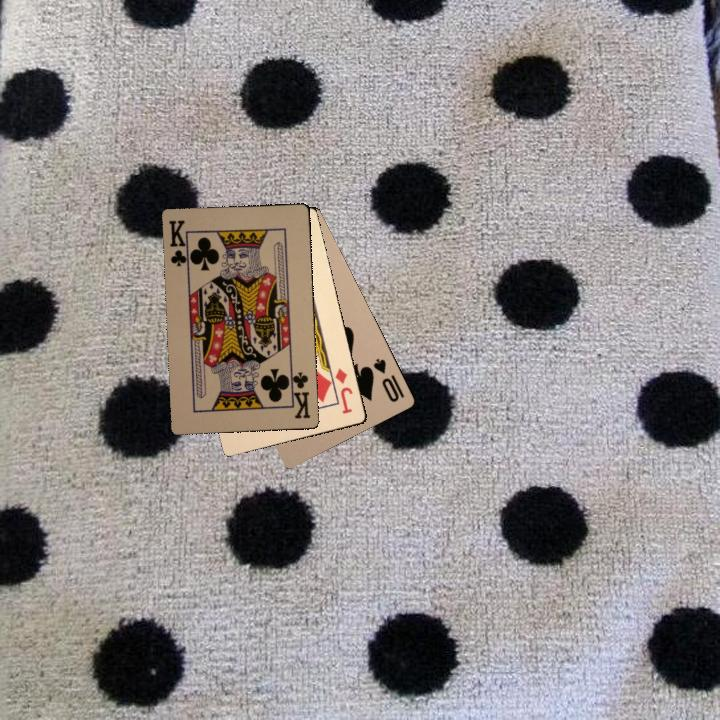10s: (369, 354, 407, 405)
Jd: (331, 364, 355, 416)
Kc: (286, 367, 313, 421), (165, 216, 192, 270)
